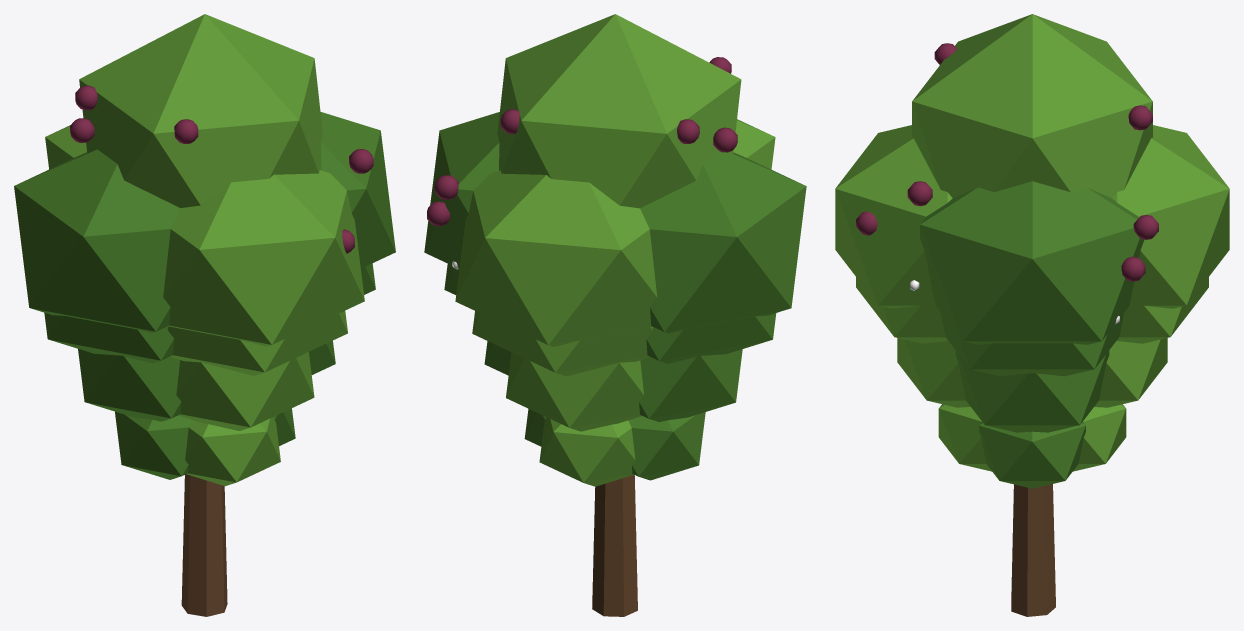
File: Crop_Fruit_Plum.fbx
3 renders of one model, left to right at view 1: azimuth 30°, elevation 25°; view 2: azimuth 150°, elevation 25°; view 3: azimuth 270°, elevation 25°, orthographic.
Visible parts, largest first — view 1: Crop_Fruit_Plum__S4, Crop_Fruit_Plum__S2, Crop_Fruit_Plum__S1, Crop_Fruit_Plum__S3; view 2: Crop_Fruit_Plum__S4, Crop_Fruit_Plum__S2, Crop_Fruit_Plum__S1, Crop_Fruit_Plum__S3; view 3: Crop_Fruit_Plum__S4, Crop_Fruit_Plum__S2, Crop_Fruit_Plum__S1, Crop_Fruit_Plum__S3.
Part boxes in pixels (x1,y1,x2,y2): Crop_Fruit_Plum__S4: [14, 14, 395, 616]; Crop_Fruit_Plum__S2: [78, 340, 335, 430]; Crop_Fruit_Plum__S1: [115, 408, 295, 486]; Crop_Fruit_Plum__S3: [44, 263, 375, 375]; Crop_Fruit_Plum__S4: [424, 14, 806, 616]; Crop_Fruit_Plum__S2: [484, 341, 742, 431]; Crop_Fruit_Plum__S1: [524, 409, 705, 486]; Crop_Fruit_Plum__S3: [444, 261, 776, 376]; Crop_Fruit_Plum__S4: [835, 14, 1229, 616]; Crop_Fruit_Plum__S2: [897, 338, 1167, 432]; Crop_Fruit_Plum__S1: [938, 404, 1126, 488]; Crop_Fruit_Plum__S3: [856, 277, 1208, 376].
Size of the model in its own units: 0.551 by 0.888 by 0.5353.
